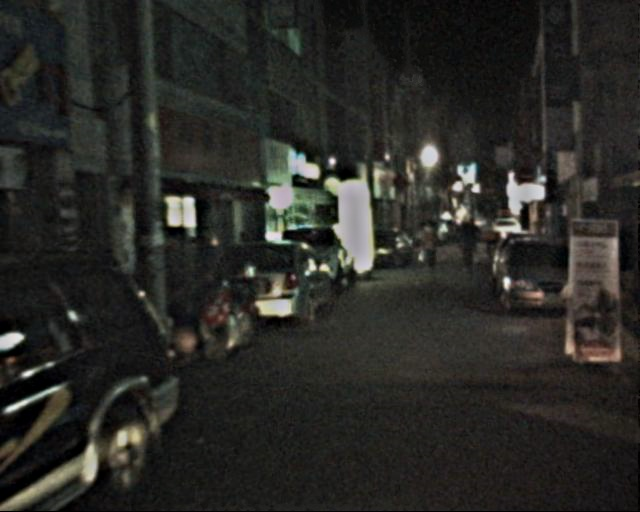person: (458, 220, 487, 278), (421, 221, 448, 275)
